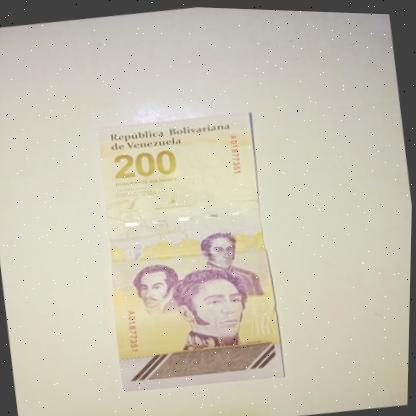two_hundred-front-vef: (87, 103, 291, 396)
